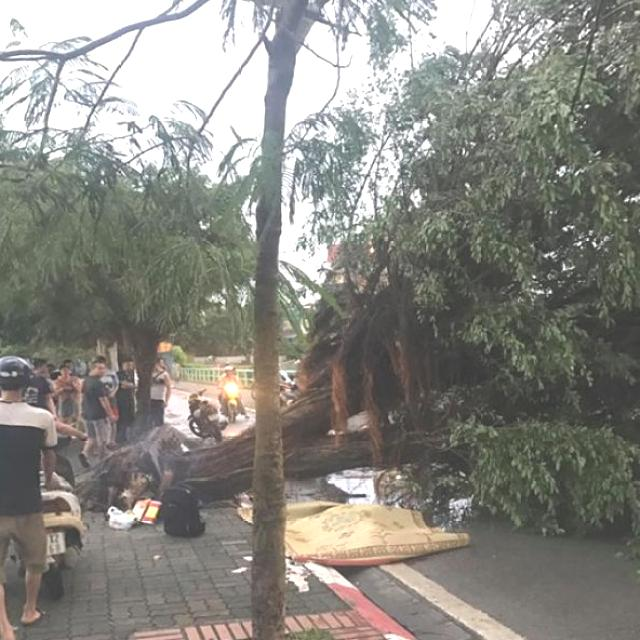fallen_object: (21, 267, 640, 526)
